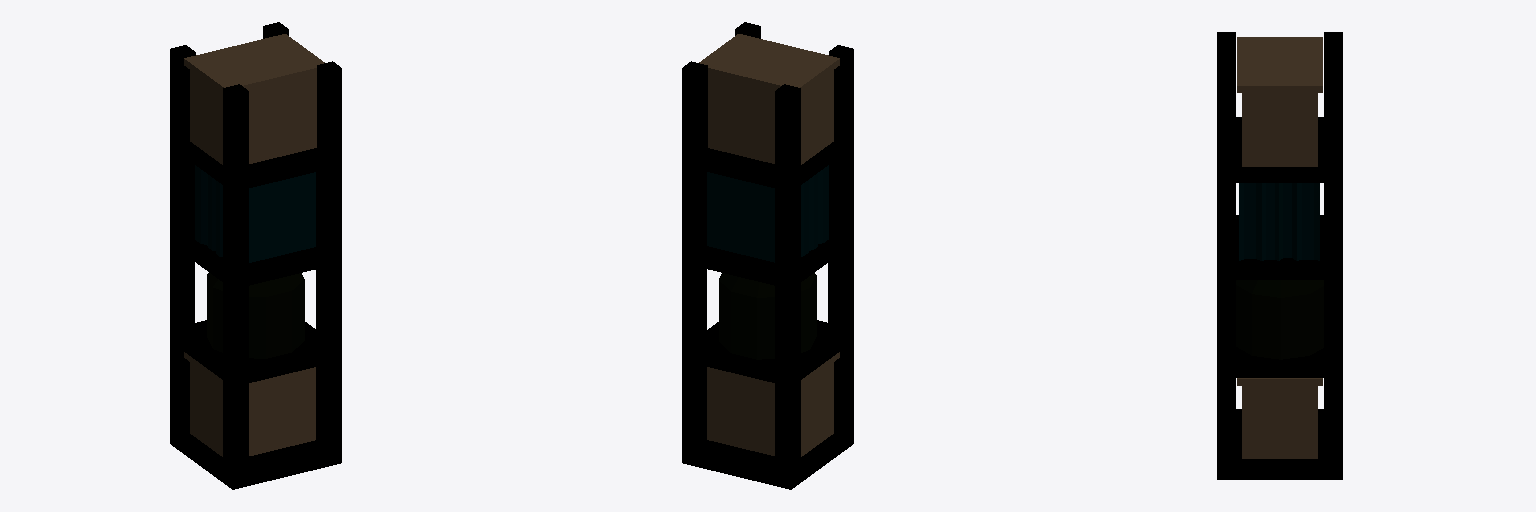
Rendered from shelf_v6_corner_dressed.obj.
The picture shows the model from 3 angles: view 1: azimuth 30°, elevation 25°; view 2: azimuth 150°, elevation 25°; view 3: azimuth 270°, elevation 25°; orthographic projection.
Visible parts, largest first — view 1: shelf_v6_corner_comb_dressed_2; view 2: shelf_v6_corner_comb_dressed_2; view 3: shelf_v6_corner_comb_dressed_2.
Part boxes in pixels (x1,y1,x2,y2): shelf_v6_corner_comb_dressed_2: (170, 22, 341, 489); shelf_v6_corner_comb_dressed_2: (682, 22, 853, 489); shelf_v6_corner_comb_dressed_2: (1217, 32, 1342, 479).
Bounding box in the file's own units: 4 × 13.77 × 3.99.